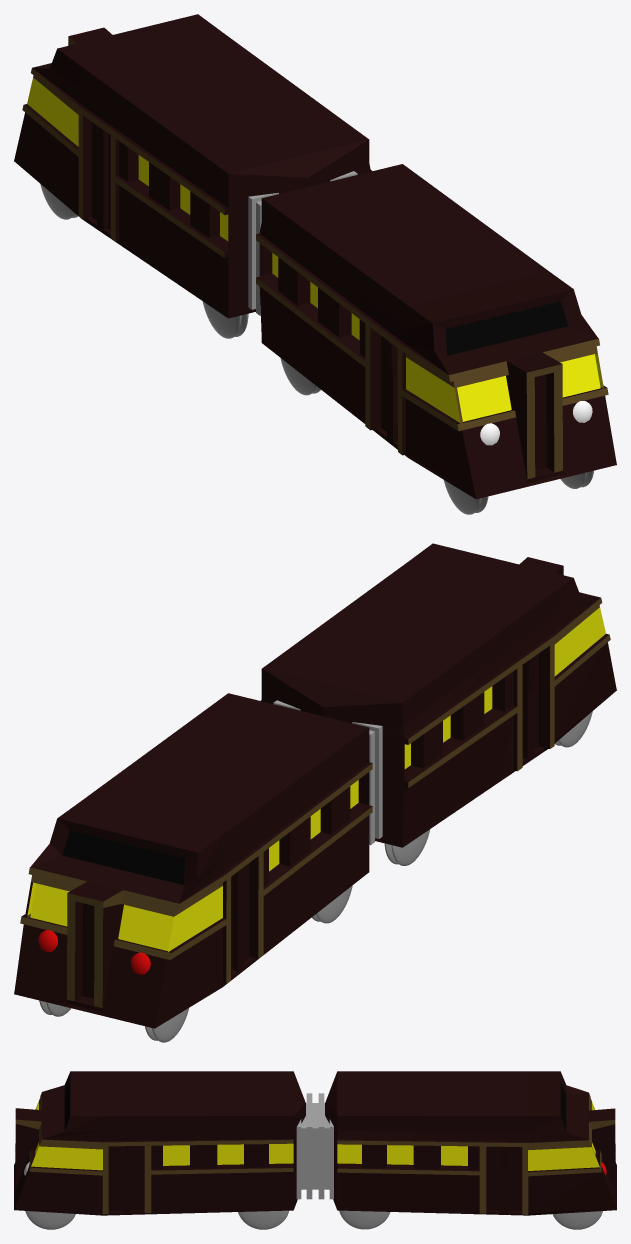
Rendered from Train.fbx.
3 renders of one model, top to bottom at view 1: azimuth 30°, elevation 25°; view 2: azimuth 150°, elevation 25°; view 3: azimuth 270°, elevation 25°, orthographic. The views are drawn at different scales.
Visible parts, largest first — view 1: pCube1 (×2), pCube2, pSphere2, pSphere3; view 2: pCube1 (×2), pCube2, pSphere3, pSphere1; view 3: pCube1 (×2), pCube2, pSphere2 (×2), pSphere1 (×2).
Part boxes in pixels (x1=…): pCube1 (×2): x1=14, y1=14, x2=616, y2=499; pCube2: x1=248, y1=171, x2=357, y2=315; pSphere2: x1=202, y1=301, x2=241, y2=338; pSphere3: x1=480, y1=401, x2=592, y2=445; pCube1 (×2): x1=14, y1=543, x2=616, y2=1028; pCube2: x1=273, y1=700, x2=382, y2=845; pSphere3: x1=38, y1=930, x2=150, y2=974; pSphere1: x1=391, y1=829, x2=430, y2=865; pCube1 (×2): x1=14, y1=1071, x2=616, y2=1215; pCube2: x1=296, y1=1093, x2=333, y2=1199; pSphere2 (×2): x1=25, y1=1210, x2=288, y2=1229; pSphere1 (×2): x1=339, y1=1210, x2=602, y2=1229.
Size of the model in its own units: 4.32 by 4.91 by 22.73.
